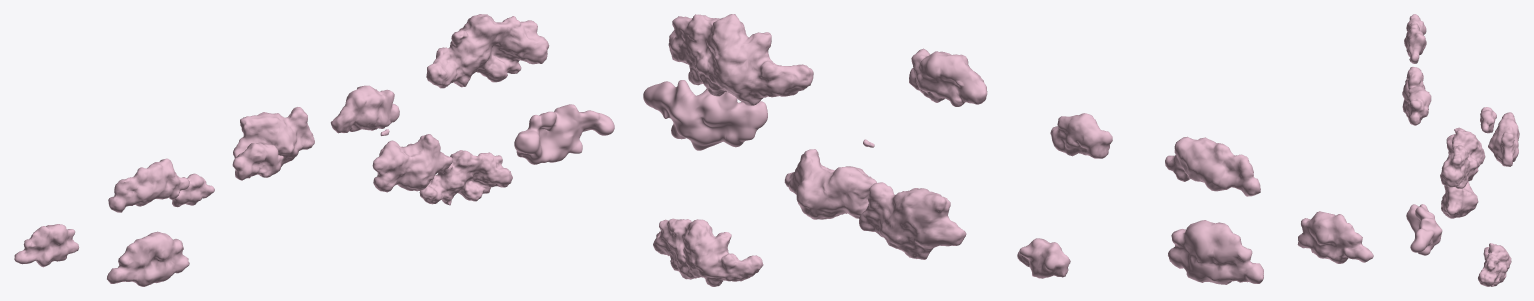
The model's file is cloud_wall_right.glb.
3 views of the same model, side by side, from view 1: azimuth 30°, elevation 25°; view 2: azimuth 150°, elevation 25°; view 3: azimuth 270°, elevation 25° (orthographic). The views are drawn at different scales.
Parts seen in each view (by area): view 1: Mball.003, Mball.002, Mball.005, Mball.008, Mball.006, Mball.009; view 2: Mball.002, Mball.003, Mball.005, Mball.009, Mball.008, Mball.006; view 3: Mball.003, Mball.002, Mball.005, Mball.009, Mball.008, Mball.006.
Boxes of the visible parts, box(x1,y1,x2,y2) form: Mball.003: box(372, 14, 549, 192); Mball.002: box(14, 85, 399, 267); Mball.005: box(514, 104, 614, 164); Mball.008: box(419, 150, 512, 205); Mball.006: box(107, 231, 189, 286); Mball.009: box(233, 107, 314, 166); Mball.002: box(909, 48, 1373, 278); Mball.003: box(668, 14, 876, 219); Mball.005: box(643, 80, 767, 150); Mball.009: box(859, 182, 966, 259); Mball.008: box(653, 218, 763, 286); Mball.006: box(1168, 220, 1263, 284); Mball.003: box(1440, 127, 1485, 218); Mball.002: box(1404, 14, 1496, 133); Mball.005: box(1406, 204, 1442, 255); Mball.009: box(1488, 112, 1519, 166); Mball.008: box(1478, 243, 1511, 286); Mball.006: box(1402, 79, 1425, 117).
Size of the model in its own units: 83.03 by 26.88 by 19.07.
